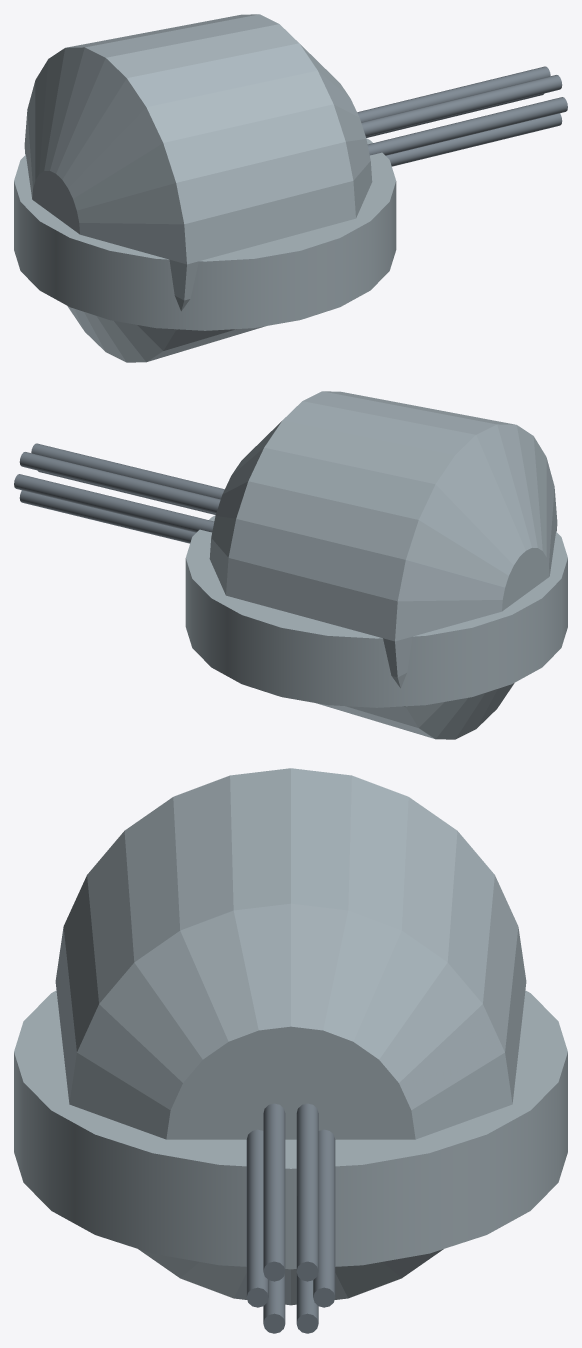
The picture shows the model from 3 angles, top to bottom: view 1: azimuth 30°, elevation 25°; view 2: azimuth 150°, elevation 25°; view 3: azimuth 270°, elevation 25°; orthographic projection. The views are drawn at different scales.
Visible parts, largest first — view 1: cw90_ak630; view 2: cw90_ak630; view 3: cw90_ak630.
Boxes of the visible parts, x1=… form: cw90_ak630: x1=14, y1=14, x2=567, y2=362; cw90_ak630: x1=14, y1=391, x2=567, y2=739; cw90_ak630: x1=14, y1=768, x2=567, y2=1333.
Size of the model in its own units: 10 by 5.48 by 6.45.
